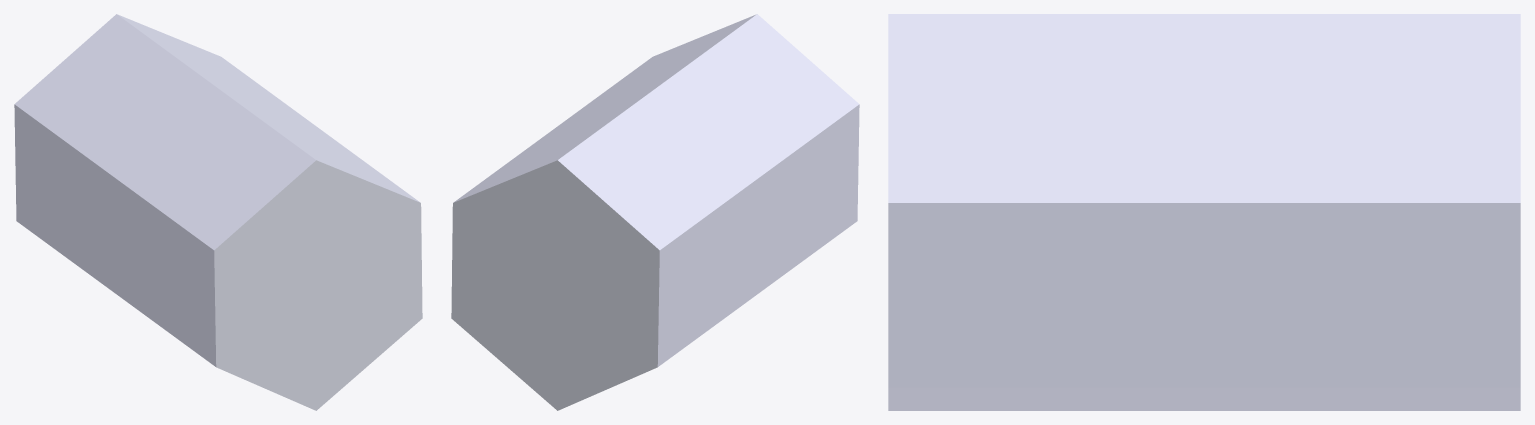
The model's file is db866fb4-23f4-485d-a0cc-c6bdb465f526.glb.
3 renders of one model, left to right at view 1: azimuth 30°, elevation 25°; view 2: azimuth 150°, elevation 25°; view 3: azimuth 270°, elevation 25°, orthographic. The views are drawn at different scales.
Visible parts, largest first — view 1: symbol._Zyzol_Grey; view 2: symbol._Zyzol_Grey; view 3: symbol._Zyzol_Grey.
Boxes of the visible parts, x1,y1,x2,y2 form: symbol._Zyzol_Grey: (14, 14, 422, 410); symbol._Zyzol_Grey: (451, 14, 859, 410); symbol._Zyzol_Grey: (888, 14, 1520, 410).
Size of what is drawn, in the model's own units: 0.0271 by 0.0312 by 0.045.
2 materials, 2 textured.
